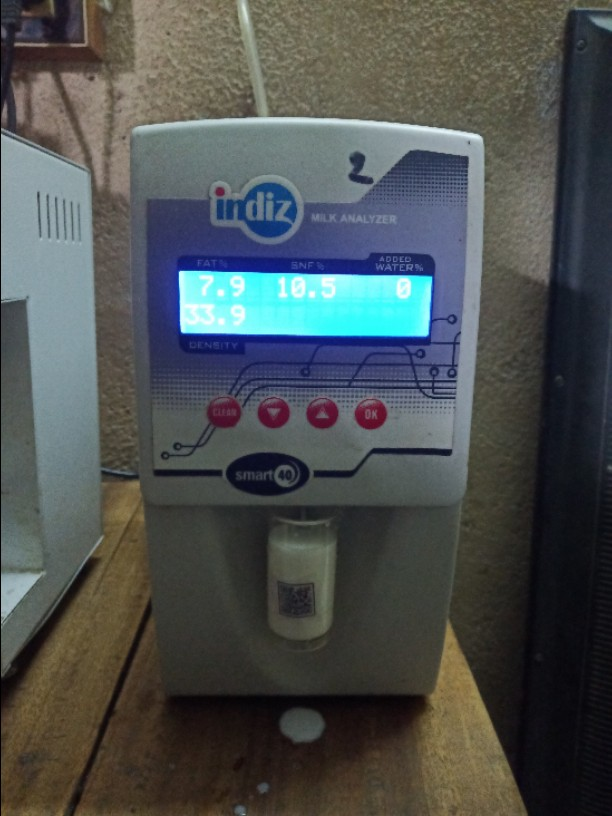lcd: (177, 262, 436, 347)
qr: (273, 580, 324, 622)
